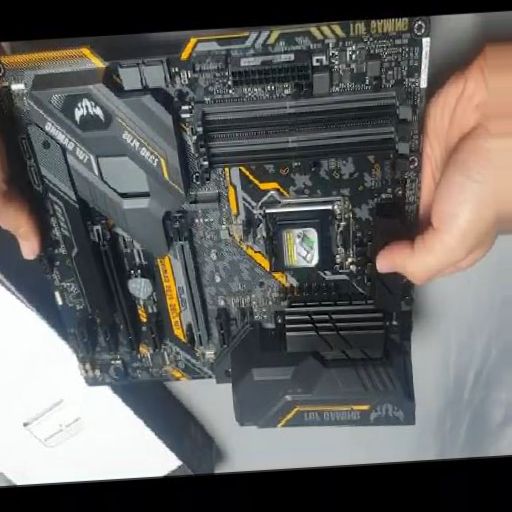CPU: (264, 198, 357, 273)
GPU: (87, 221, 141, 353), (170, 227, 208, 348)
MOTHERBOARD: (8, 15, 431, 388)
RAM: (194, 86, 414, 185)
SSD: (181, 188, 221, 211)
